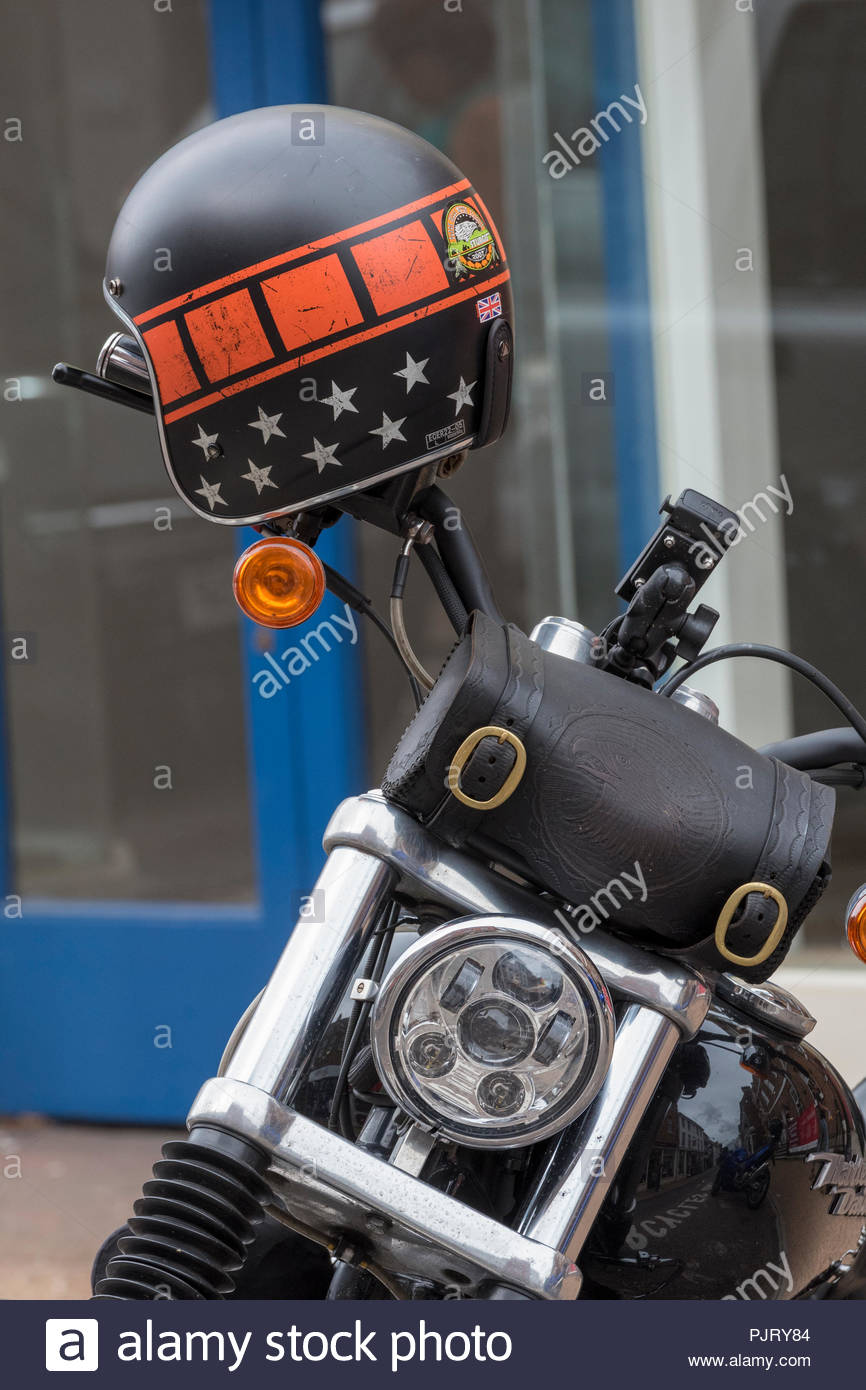with_helmet: (93, 90, 538, 531)
